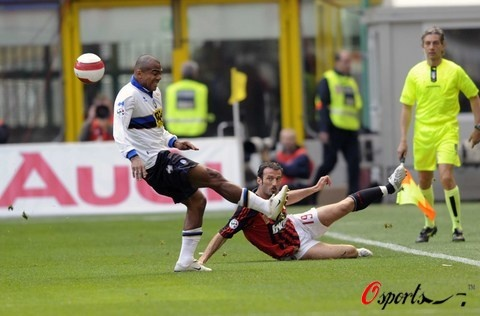falling: (203, 155, 417, 263)
